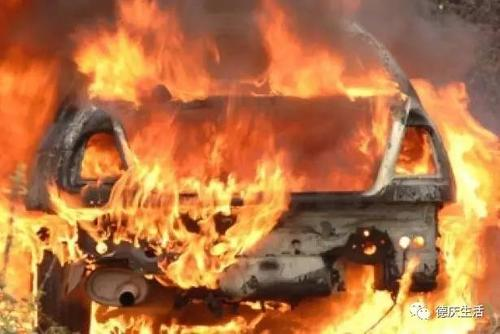fire: (8, 15, 481, 304)
